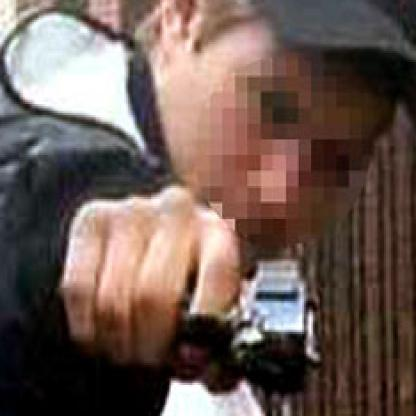gun: (100, 228, 336, 411)
